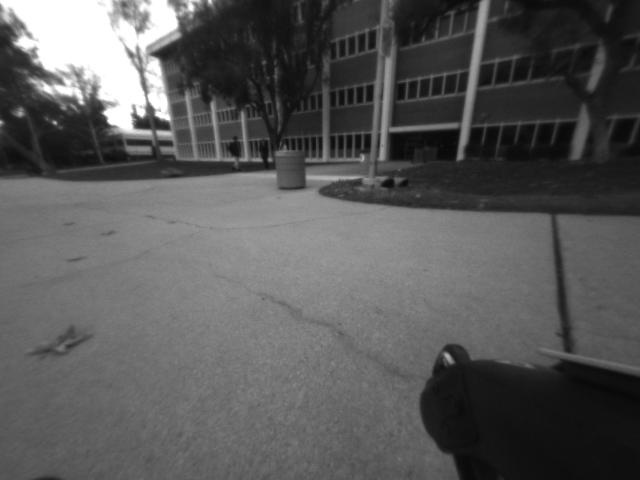trashcan: (271, 145, 314, 192), (359, 146, 374, 175)
